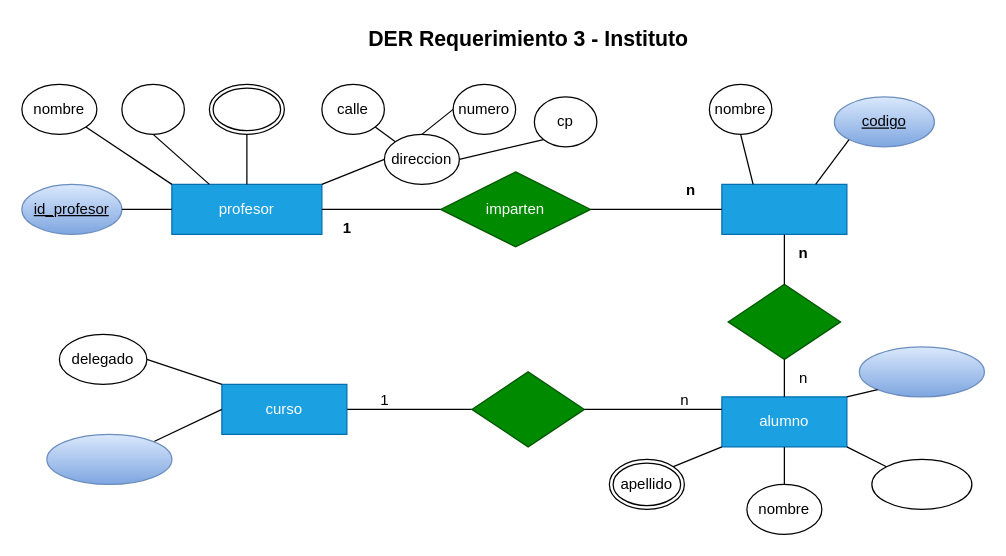
The diagram is 1006 pixels wide and 556 high, and some of its shapes have lost their labels. Each missing label, with the centre of its shape:
dni: the point at 152,108
fecha_nac: the point at 921,483
id_curso: the point at 109,458
matriculado: the point at 784,321
modulo: the point at 784,208
nro_expediente: the point at 921,371
telefono: the point at 246,108
tiene: the point at 527,409
